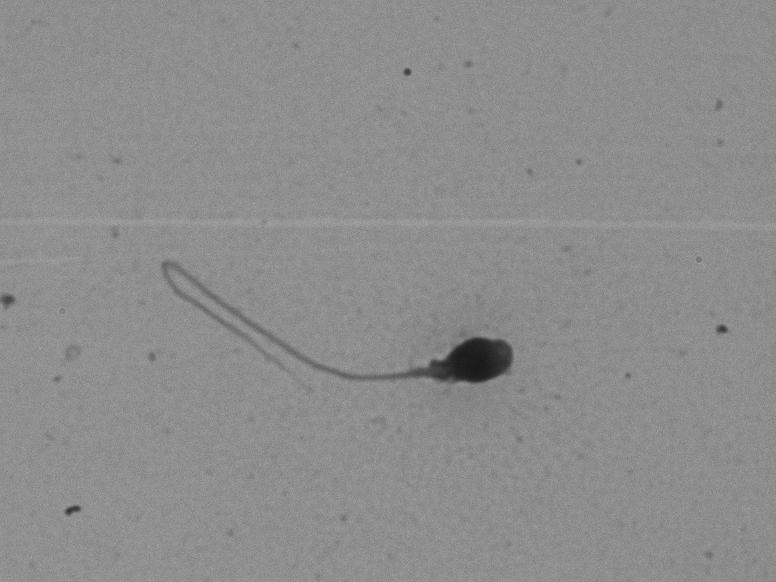Abnormal: (110, 247, 569, 430)
